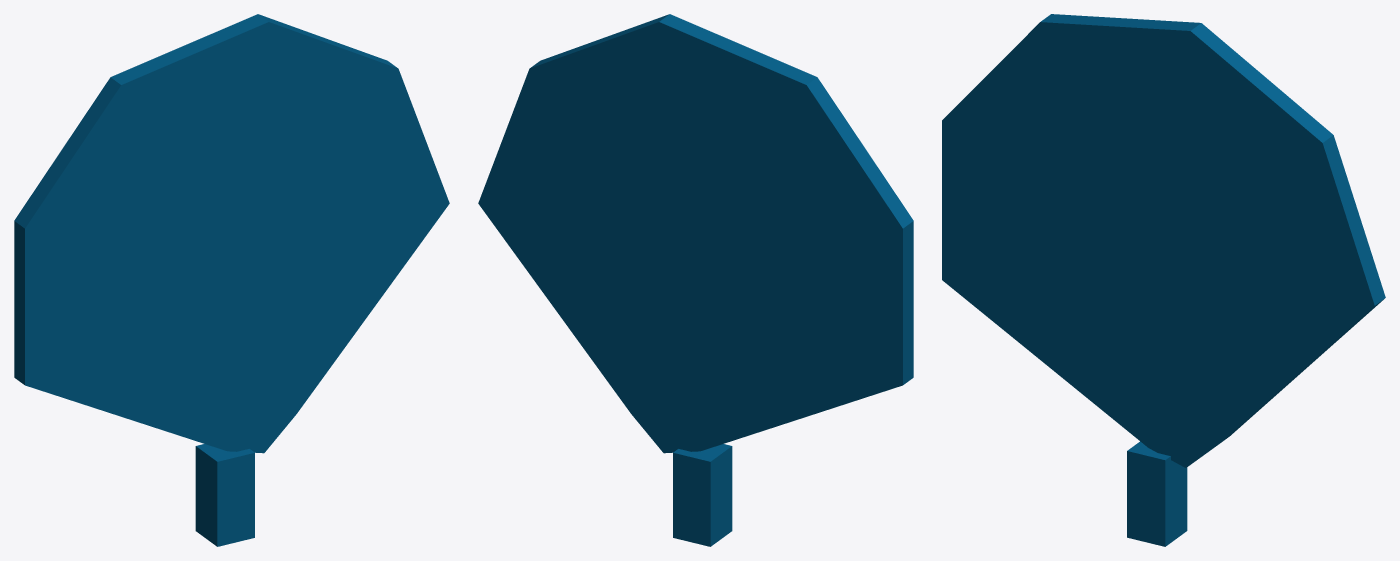
The model's file is coral_fan.glb.
3 renders of one model, left to right at view 1: azimuth 30°, elevation 25°; view 2: azimuth 150°, elevation 25°; view 3: azimuth 330°, elevation 25°, orthographic.
Visible parts, largest first — view 1: Fan; view 2: Fan; view 3: Fan.
Part boxes in pixels (x1,y1,x2,y2): Fan: [14, 14, 449, 546]; Fan: [478, 14, 913, 546]; Fan: [942, 14, 1385, 546].
Bounding box in the file's own units: 1.36 × 1.55 × 0.12.
